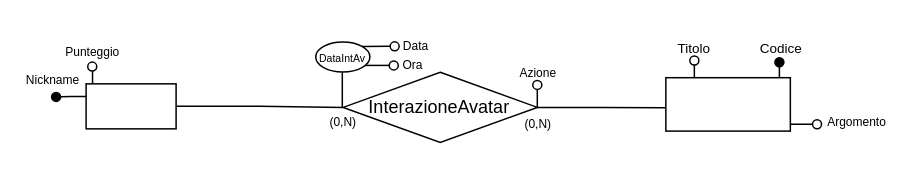
Image size: 914x170. Some labels were removed from this diagram. Here are the shapes that lost their labels. From the top down, the box of each, then its label:
(85, 82, 176, 129): Avatar
(664, 76, 790, 131): Conversazione
